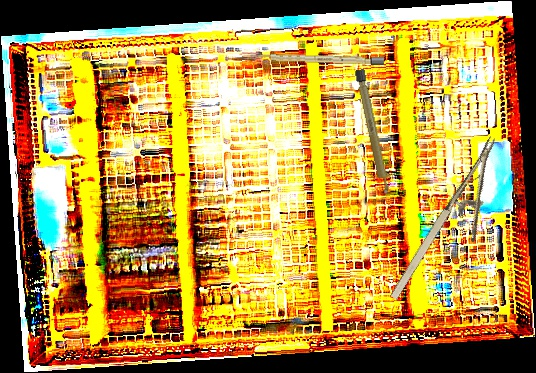Needle Holder: (385, 135, 528, 318)
Scalpel Handle: (354, 68, 391, 196), (253, 52, 385, 66)
